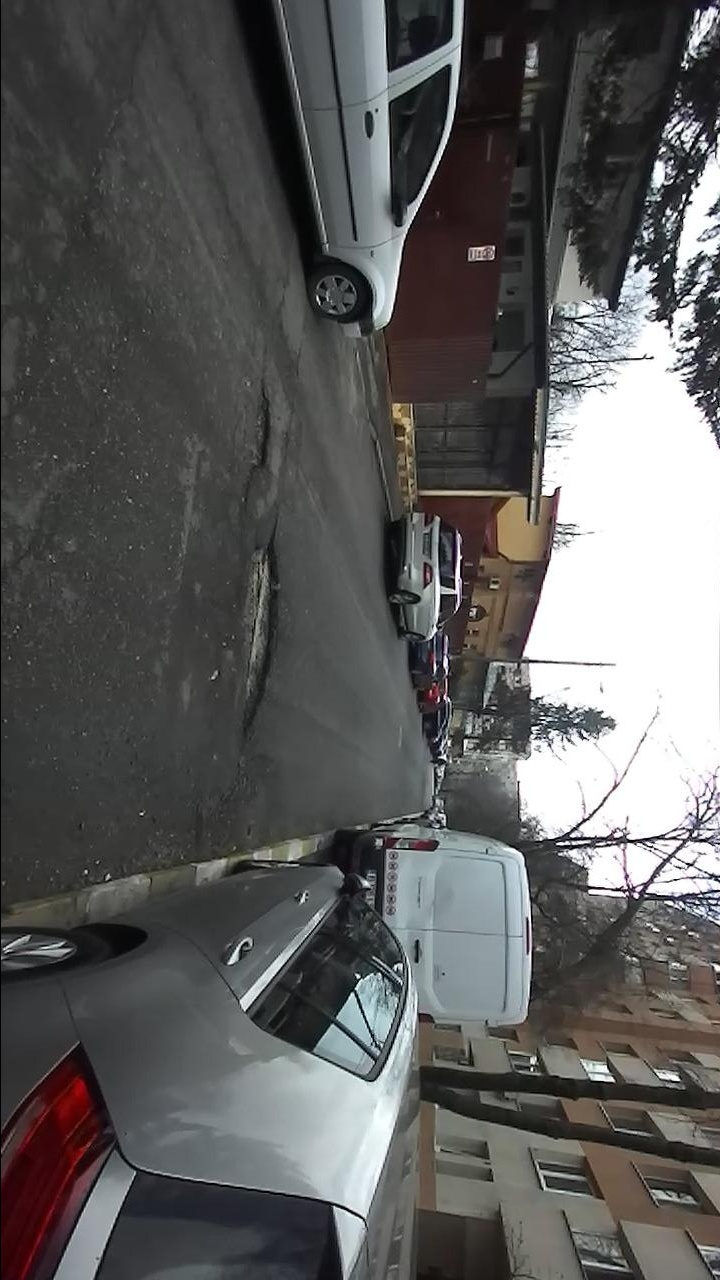pothole: (233, 517, 282, 744), (241, 375, 276, 497)
